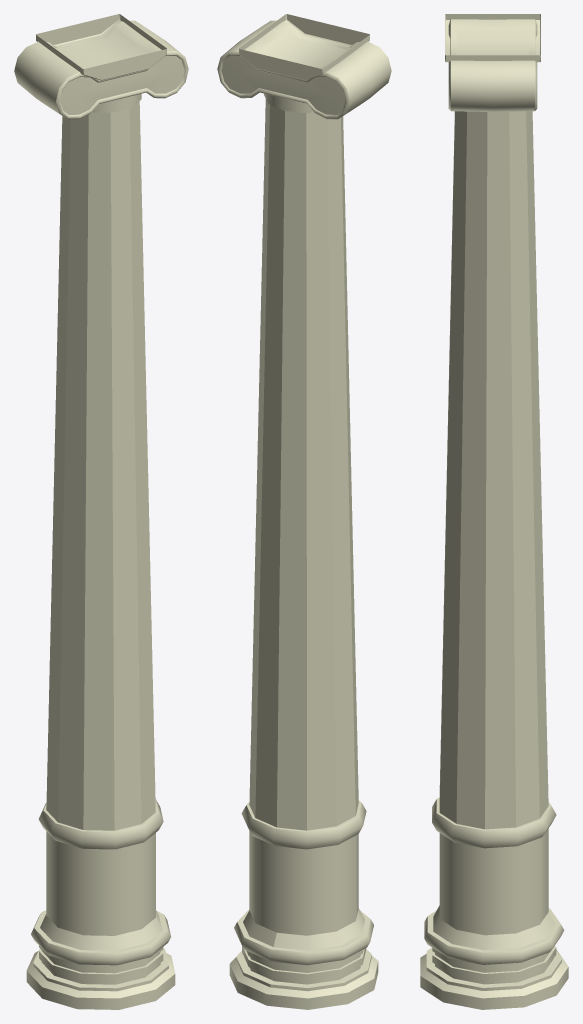
Rendered from Temple Artemis Pillar.fbx.
3 renders of one model, left to right at view 1: azimuth 30°, elevation 25°; view 2: azimuth 150°, elevation 25°; view 3: azimuth 270°, elevation 25°, orthographic.
Parts seen in each view (by area): view 1: Pillar; view 2: Pillar; view 3: Pillar.
Part boxes in pixels (box(x1,y1,x2,y2)): Pillar: box(14, 14, 188, 1009); Pillar: box(217, 14, 391, 1009); Pillar: box(420, 14, 568, 1009).
Bounding box in the file's own units: 66.44 × 434 × 61.83.
